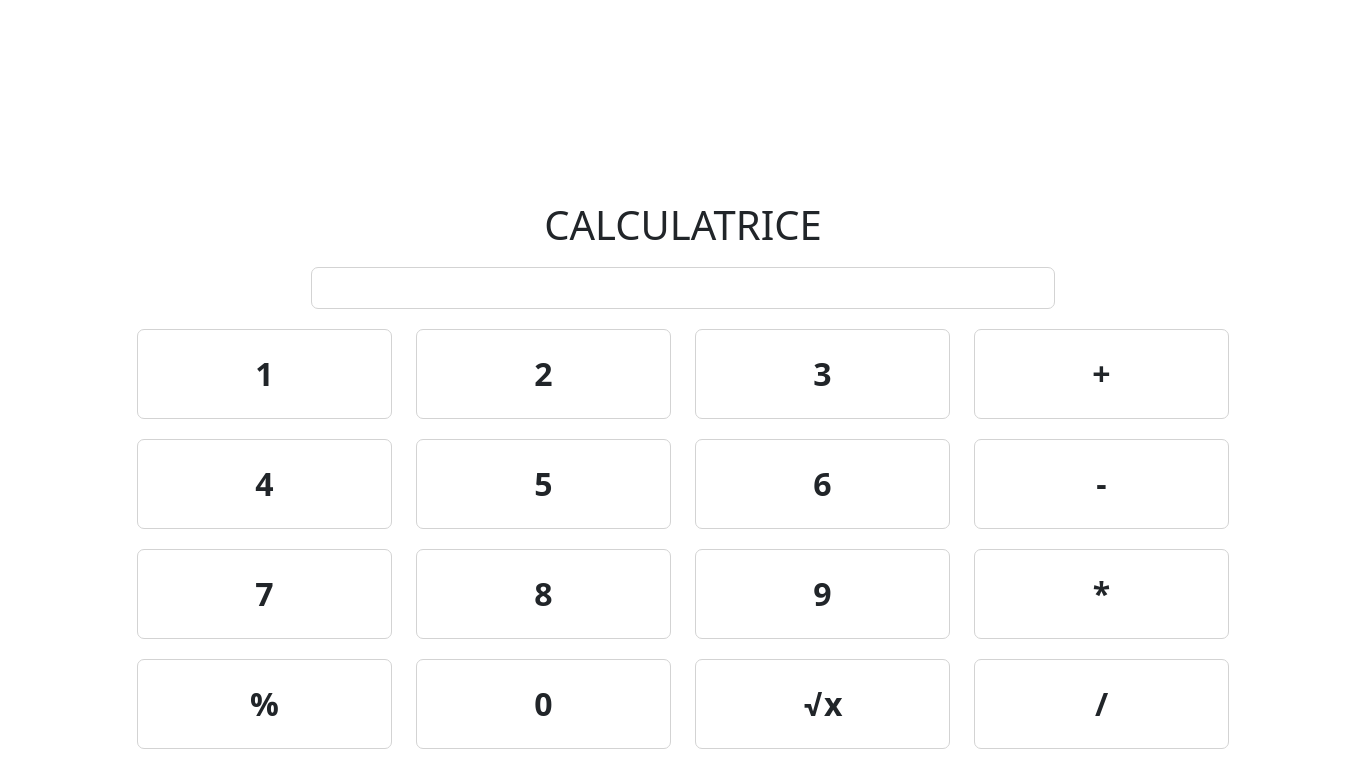
Test: calculatrice app › division
Click the text with class "touch" showing "2".
click(544, 374)  # box [416,329,671,419]
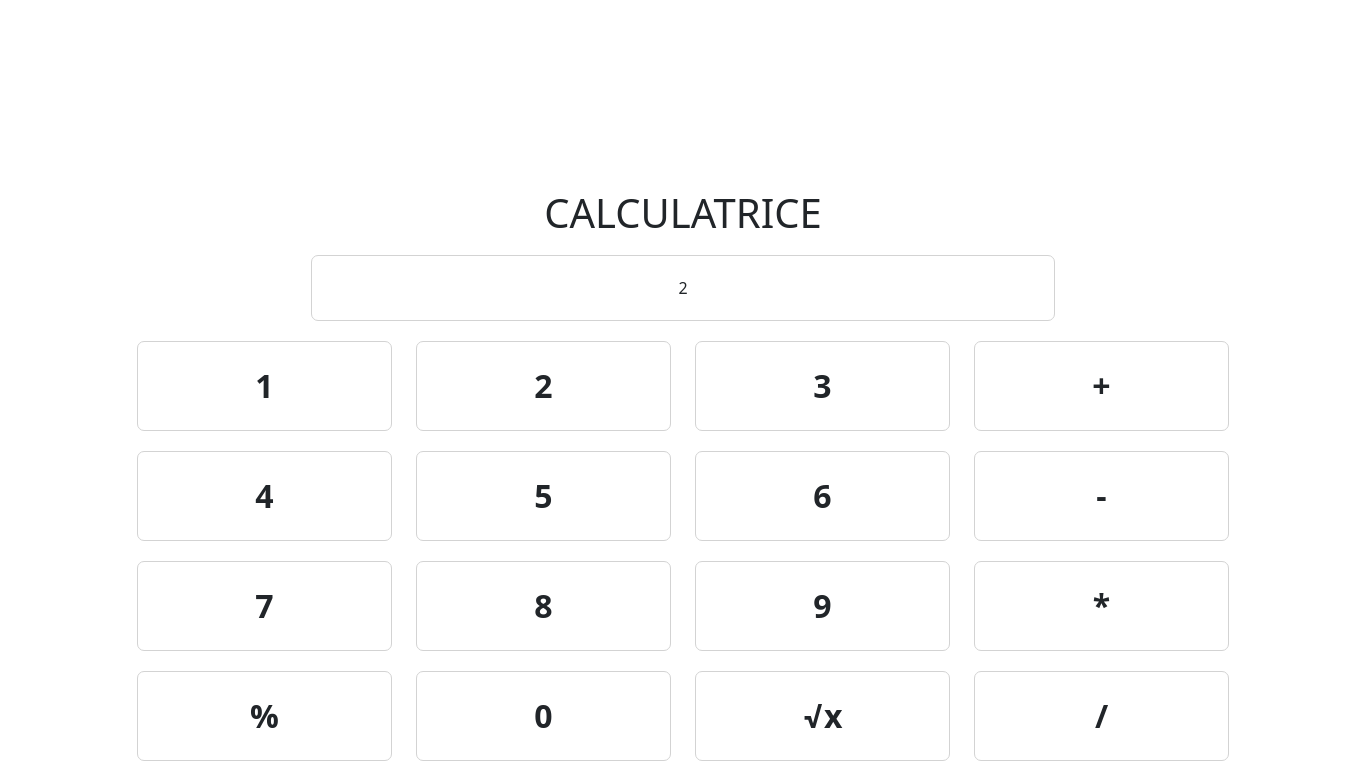
Click the text with class "touch" showing "/".
click(1102, 716)  # box [974,671,1229,761]
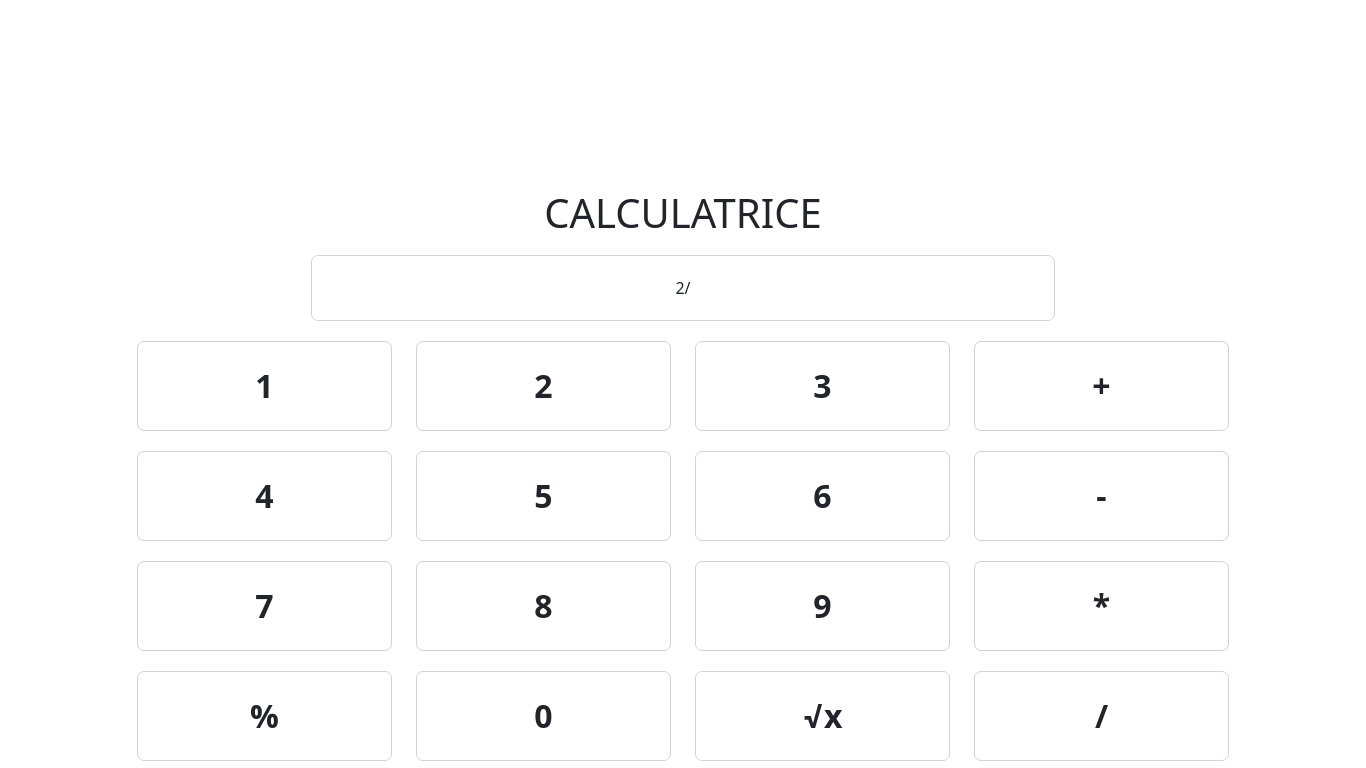
Click the text with class "touch" showing "2".
click(544, 386)  # box [416,341,671,431]
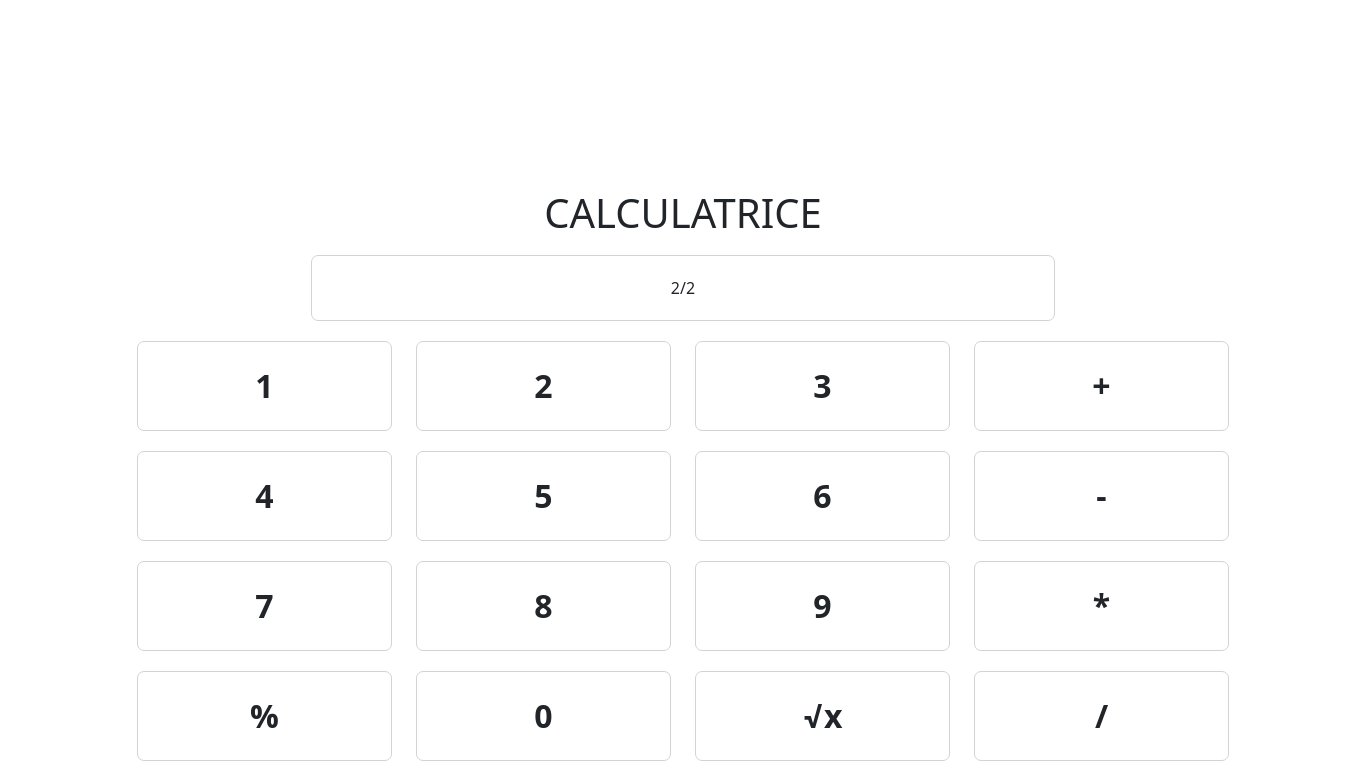
Scroll
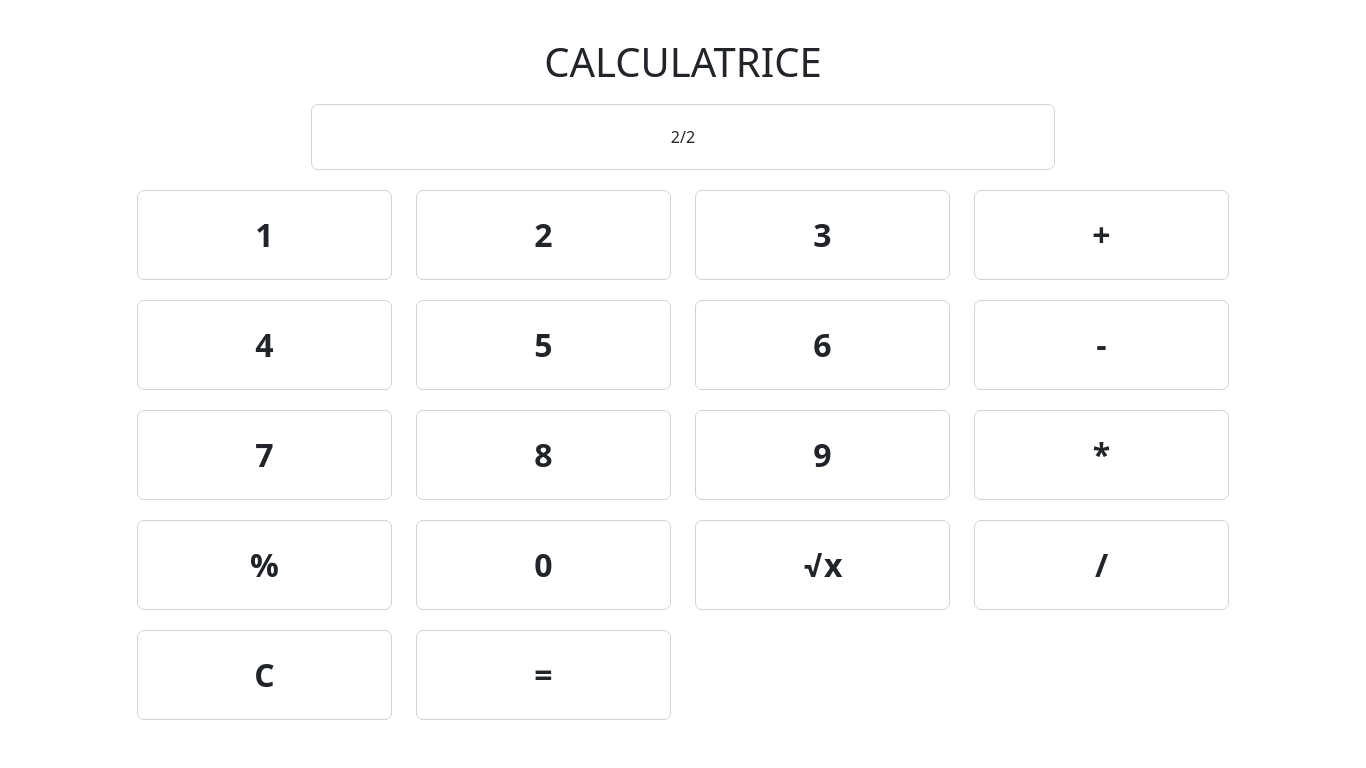
Click the text with class "touch" showing "=".
click(544, 675)  # box [416,630,671,720]
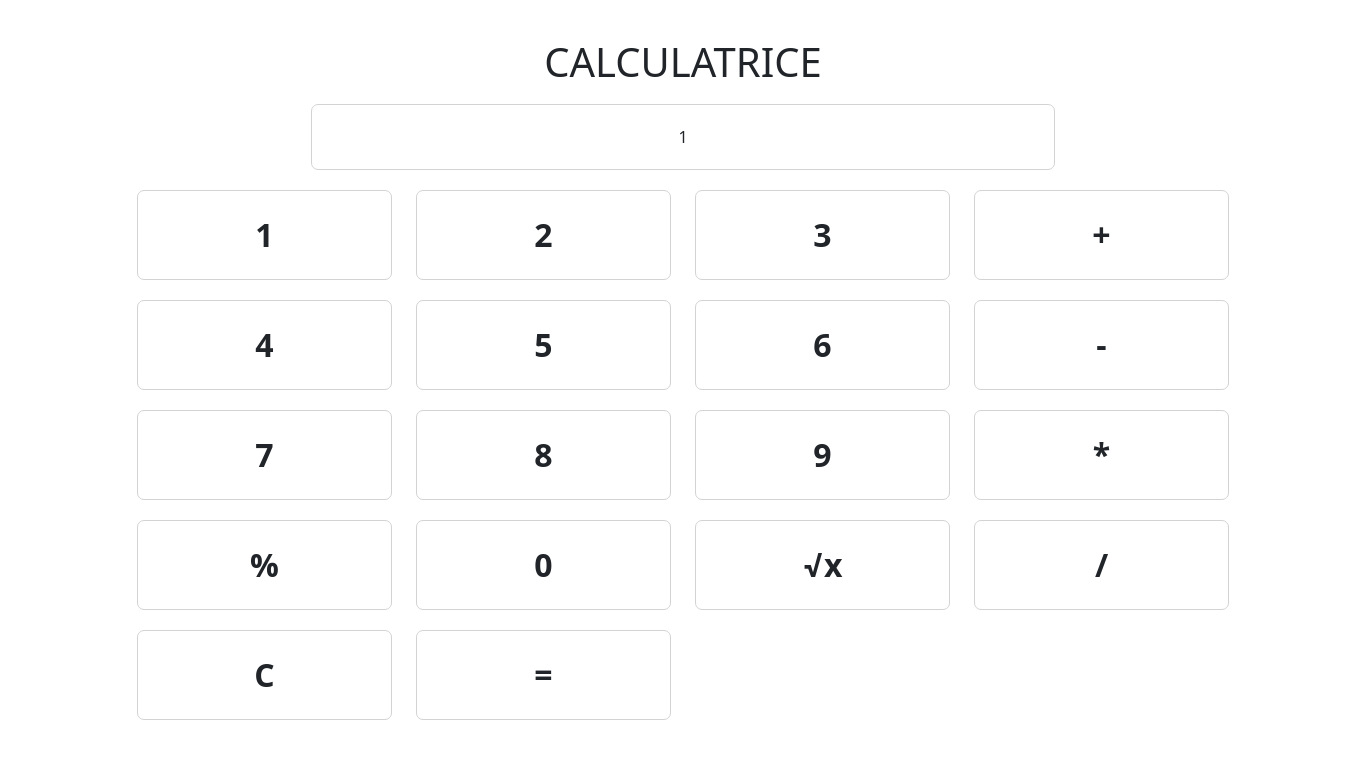
Expected: the text with class "result" reads "1", [311,104,1055,170]
